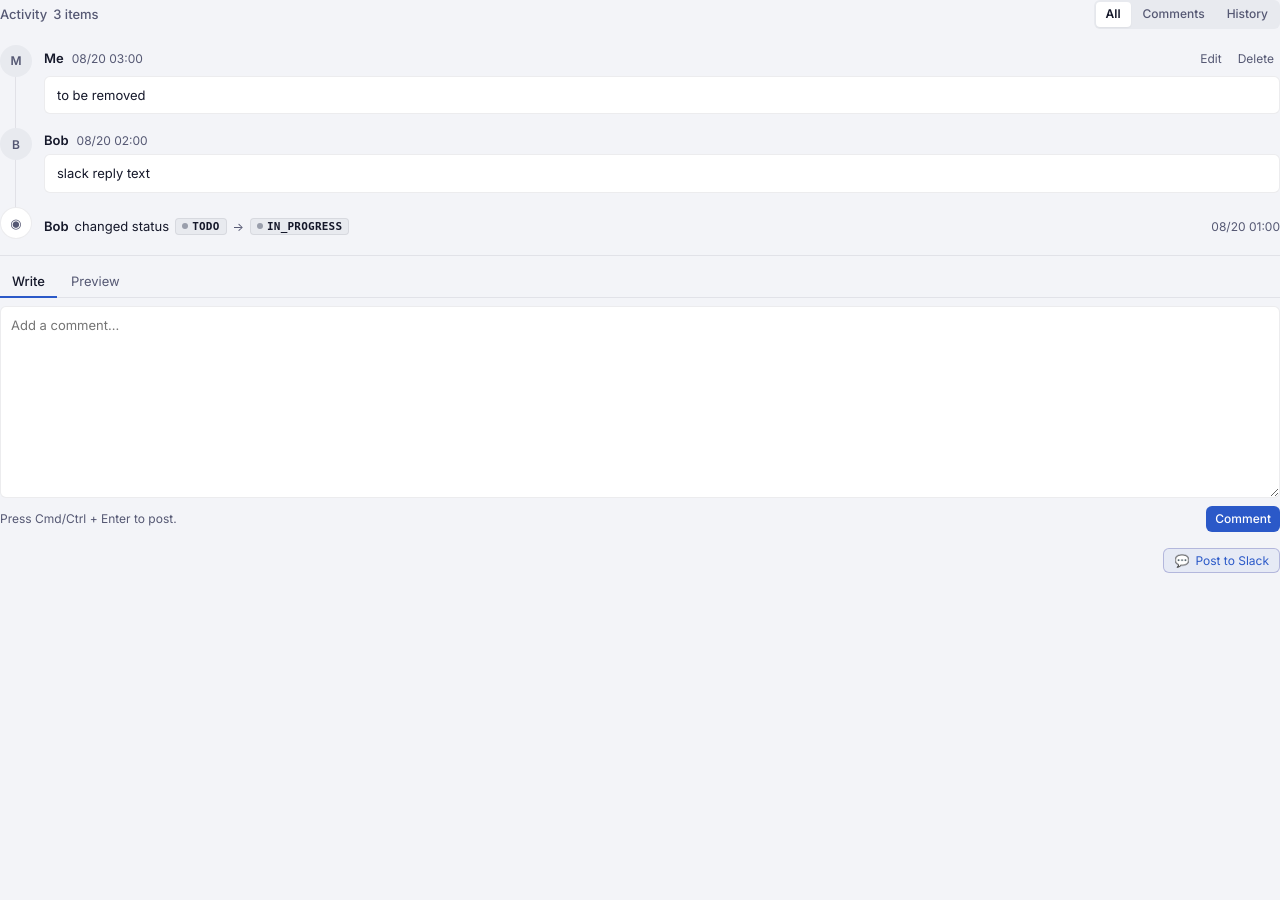
Scenario: ActionActivity comments › deletes through the confirm dialog and reports a failed delete
Expected: the element with test id "activity-comment-c-mine" is shown, [0,41,1279,118]
Click the button with test id "action-comment-delete-c-mine".
click(1256, 59)  # box [1232,49,1279,70]
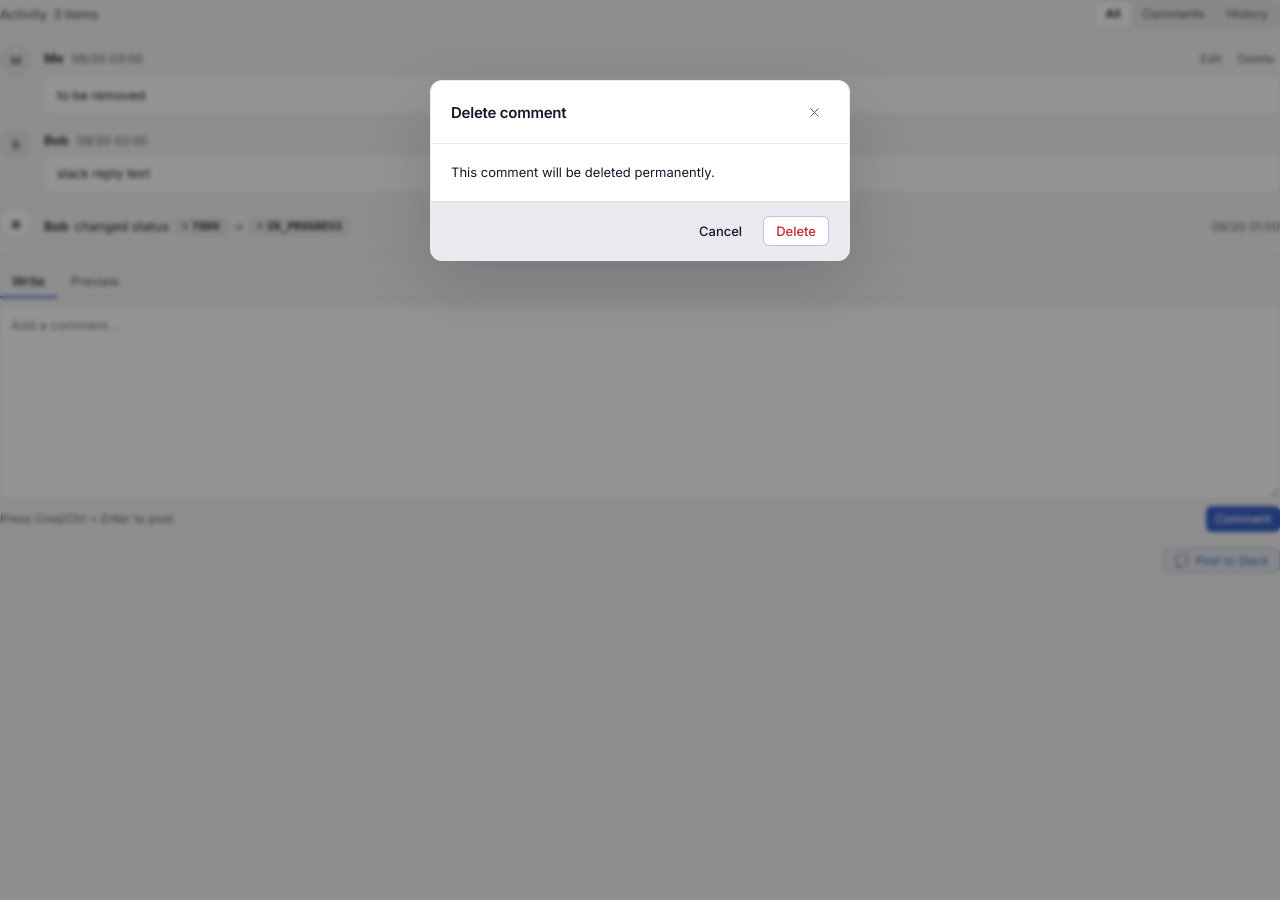
// First attempt fails: the dialog stays open and says so.
Click the button with test id "action-comment-delete-confirm".
click(796, 231)  # box [763,216,829,246]
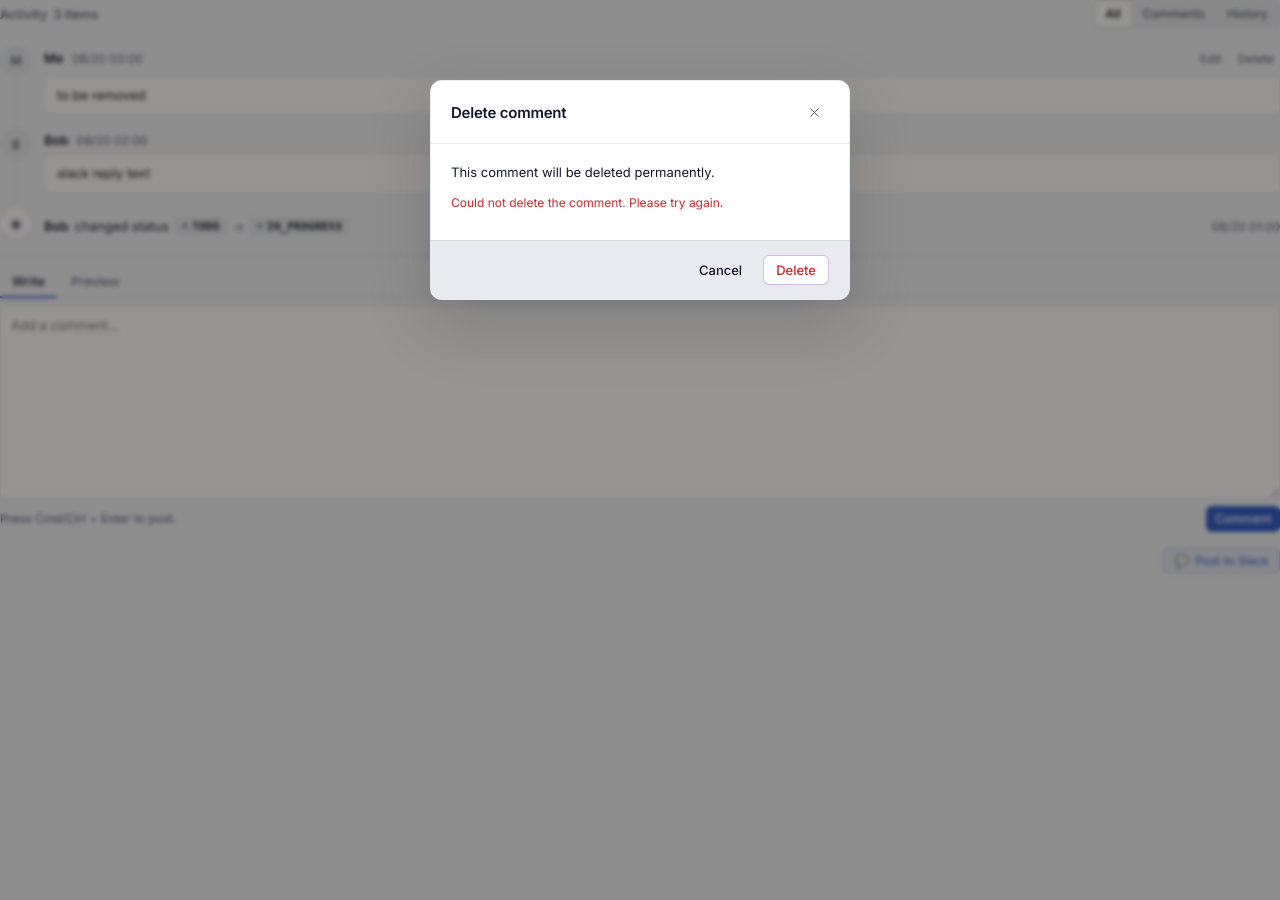
Expected: the message "Could not delete the comment. Please try again." is shown, [451,195,723,210]
// Second attempt succeeds and the dialog closes.
Click the button with test id "action-comment-delete-confirm".
click(796, 270)  # box [763,255,829,285]
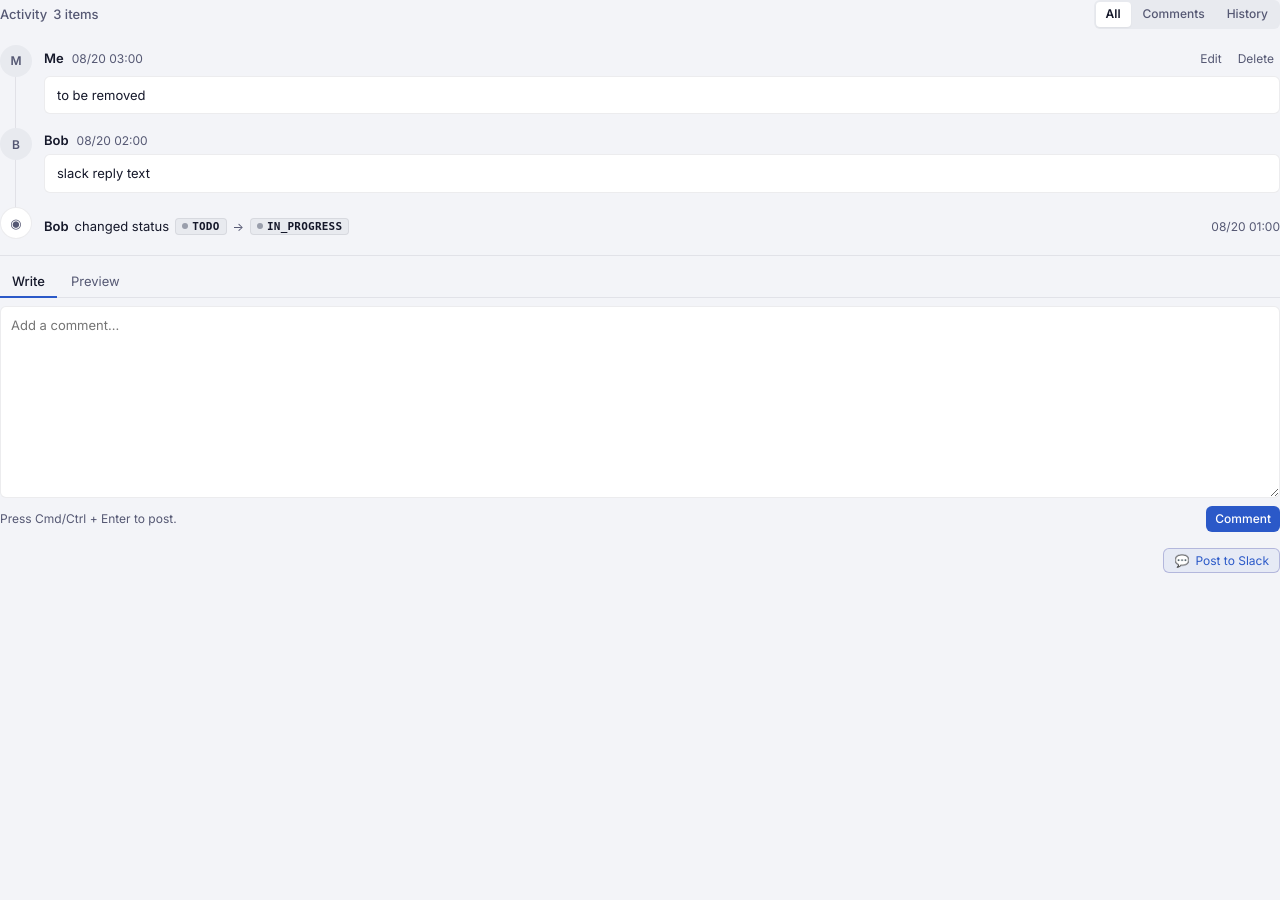
Expected: the button with test id "action-comment-delete-confirm" is gone
